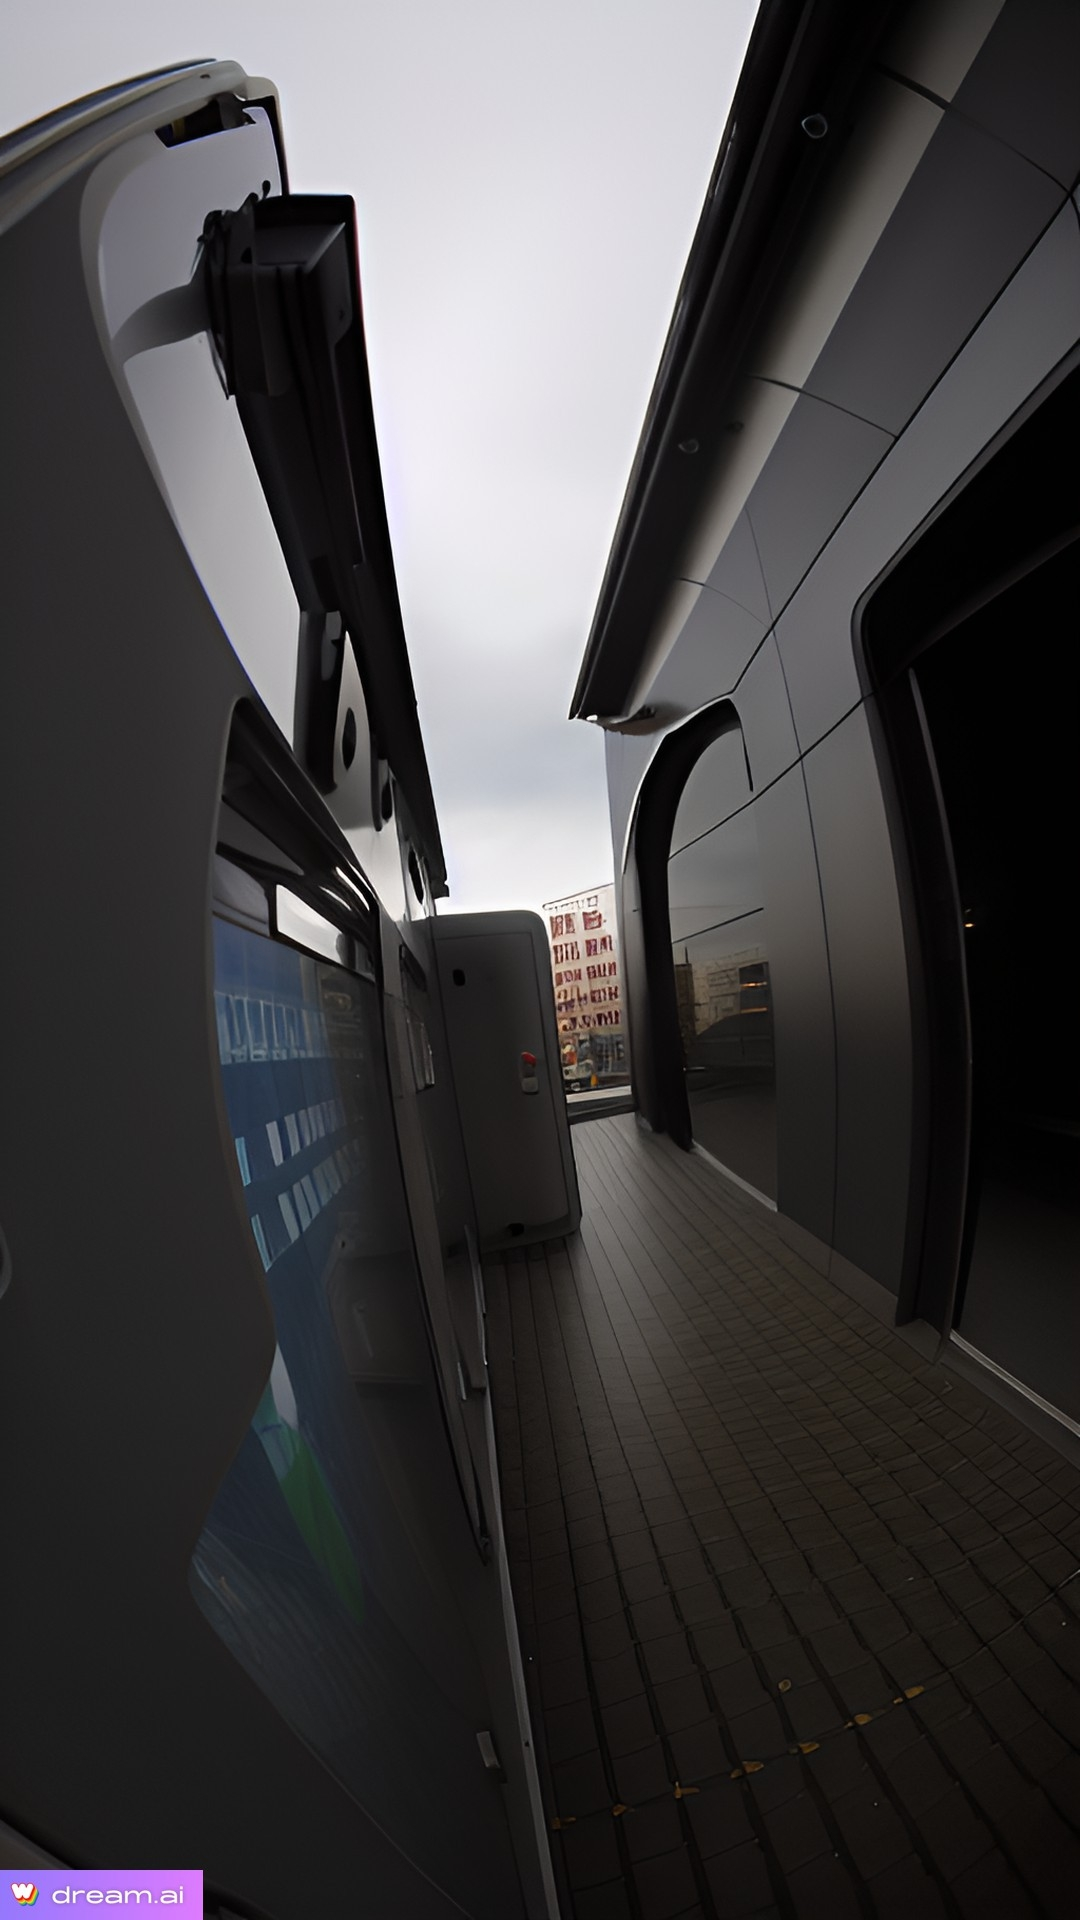door_back: (411, 895, 621, 1284)
